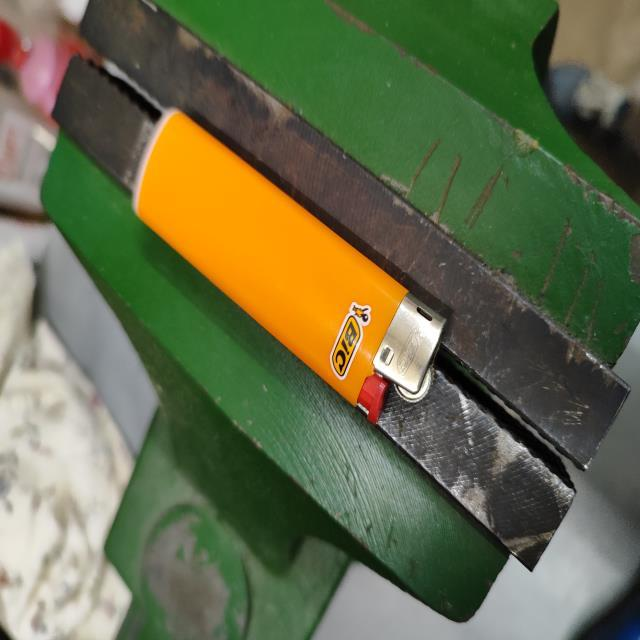lighter: (133, 111, 444, 421)
